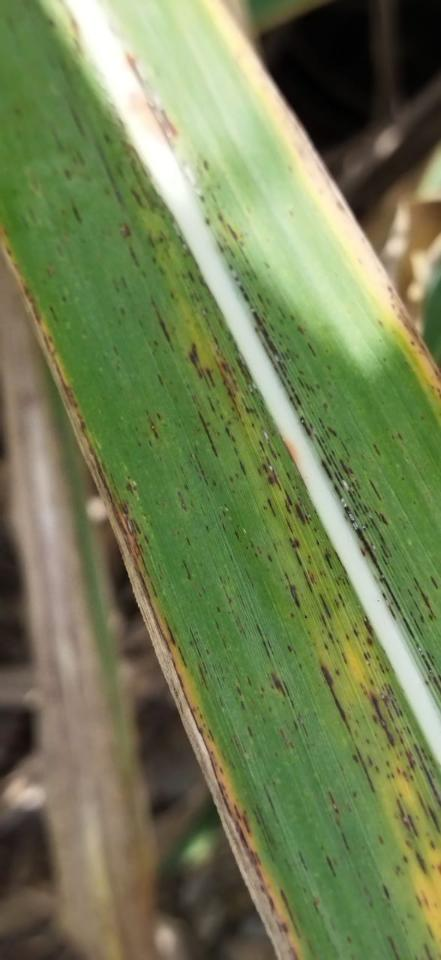RedRot: (281, 437, 304, 465)
Rust: (96, 123, 440, 959), (119, 36, 440, 716), (56, 368, 308, 959), (275, 88, 440, 407)
Yellow: (141, 173, 440, 958), (0, 221, 313, 959), (199, 0, 440, 438)
